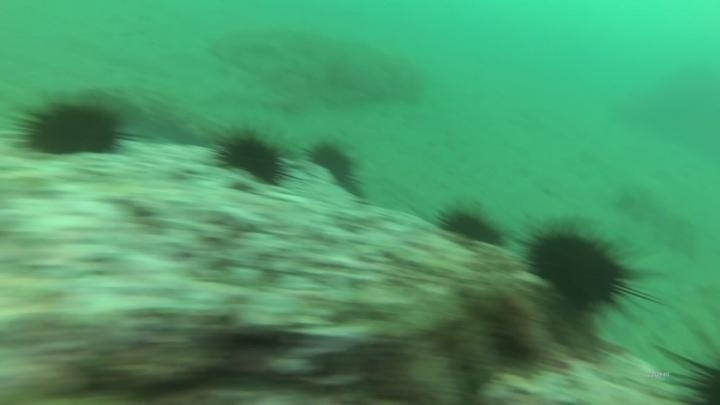echinus: (522, 223, 638, 321), (10, 94, 133, 162), (211, 125, 293, 189), (305, 137, 367, 198), (434, 201, 508, 252)
